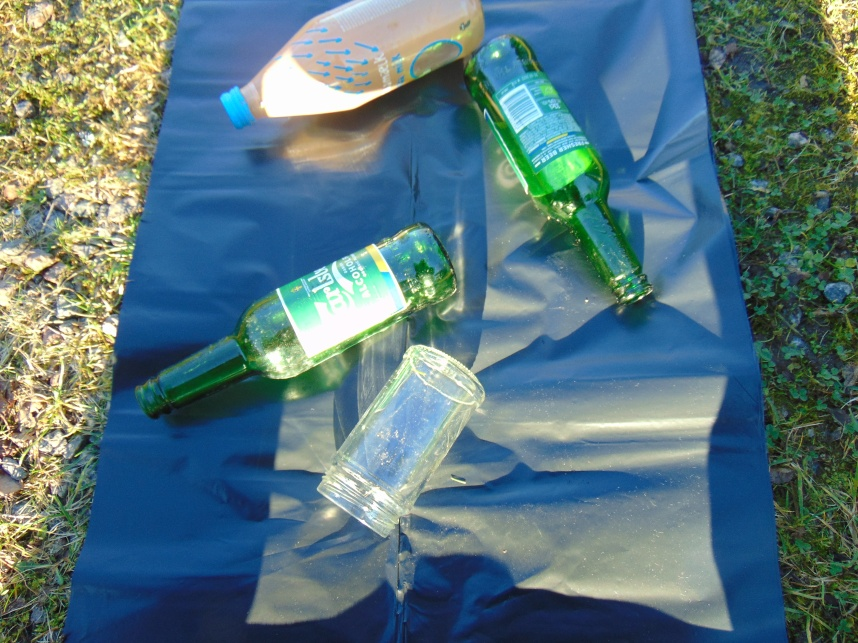glass_bottle: (134, 218, 461, 421), (460, 36, 657, 314), (221, 1, 488, 128), (316, 343, 486, 539)
